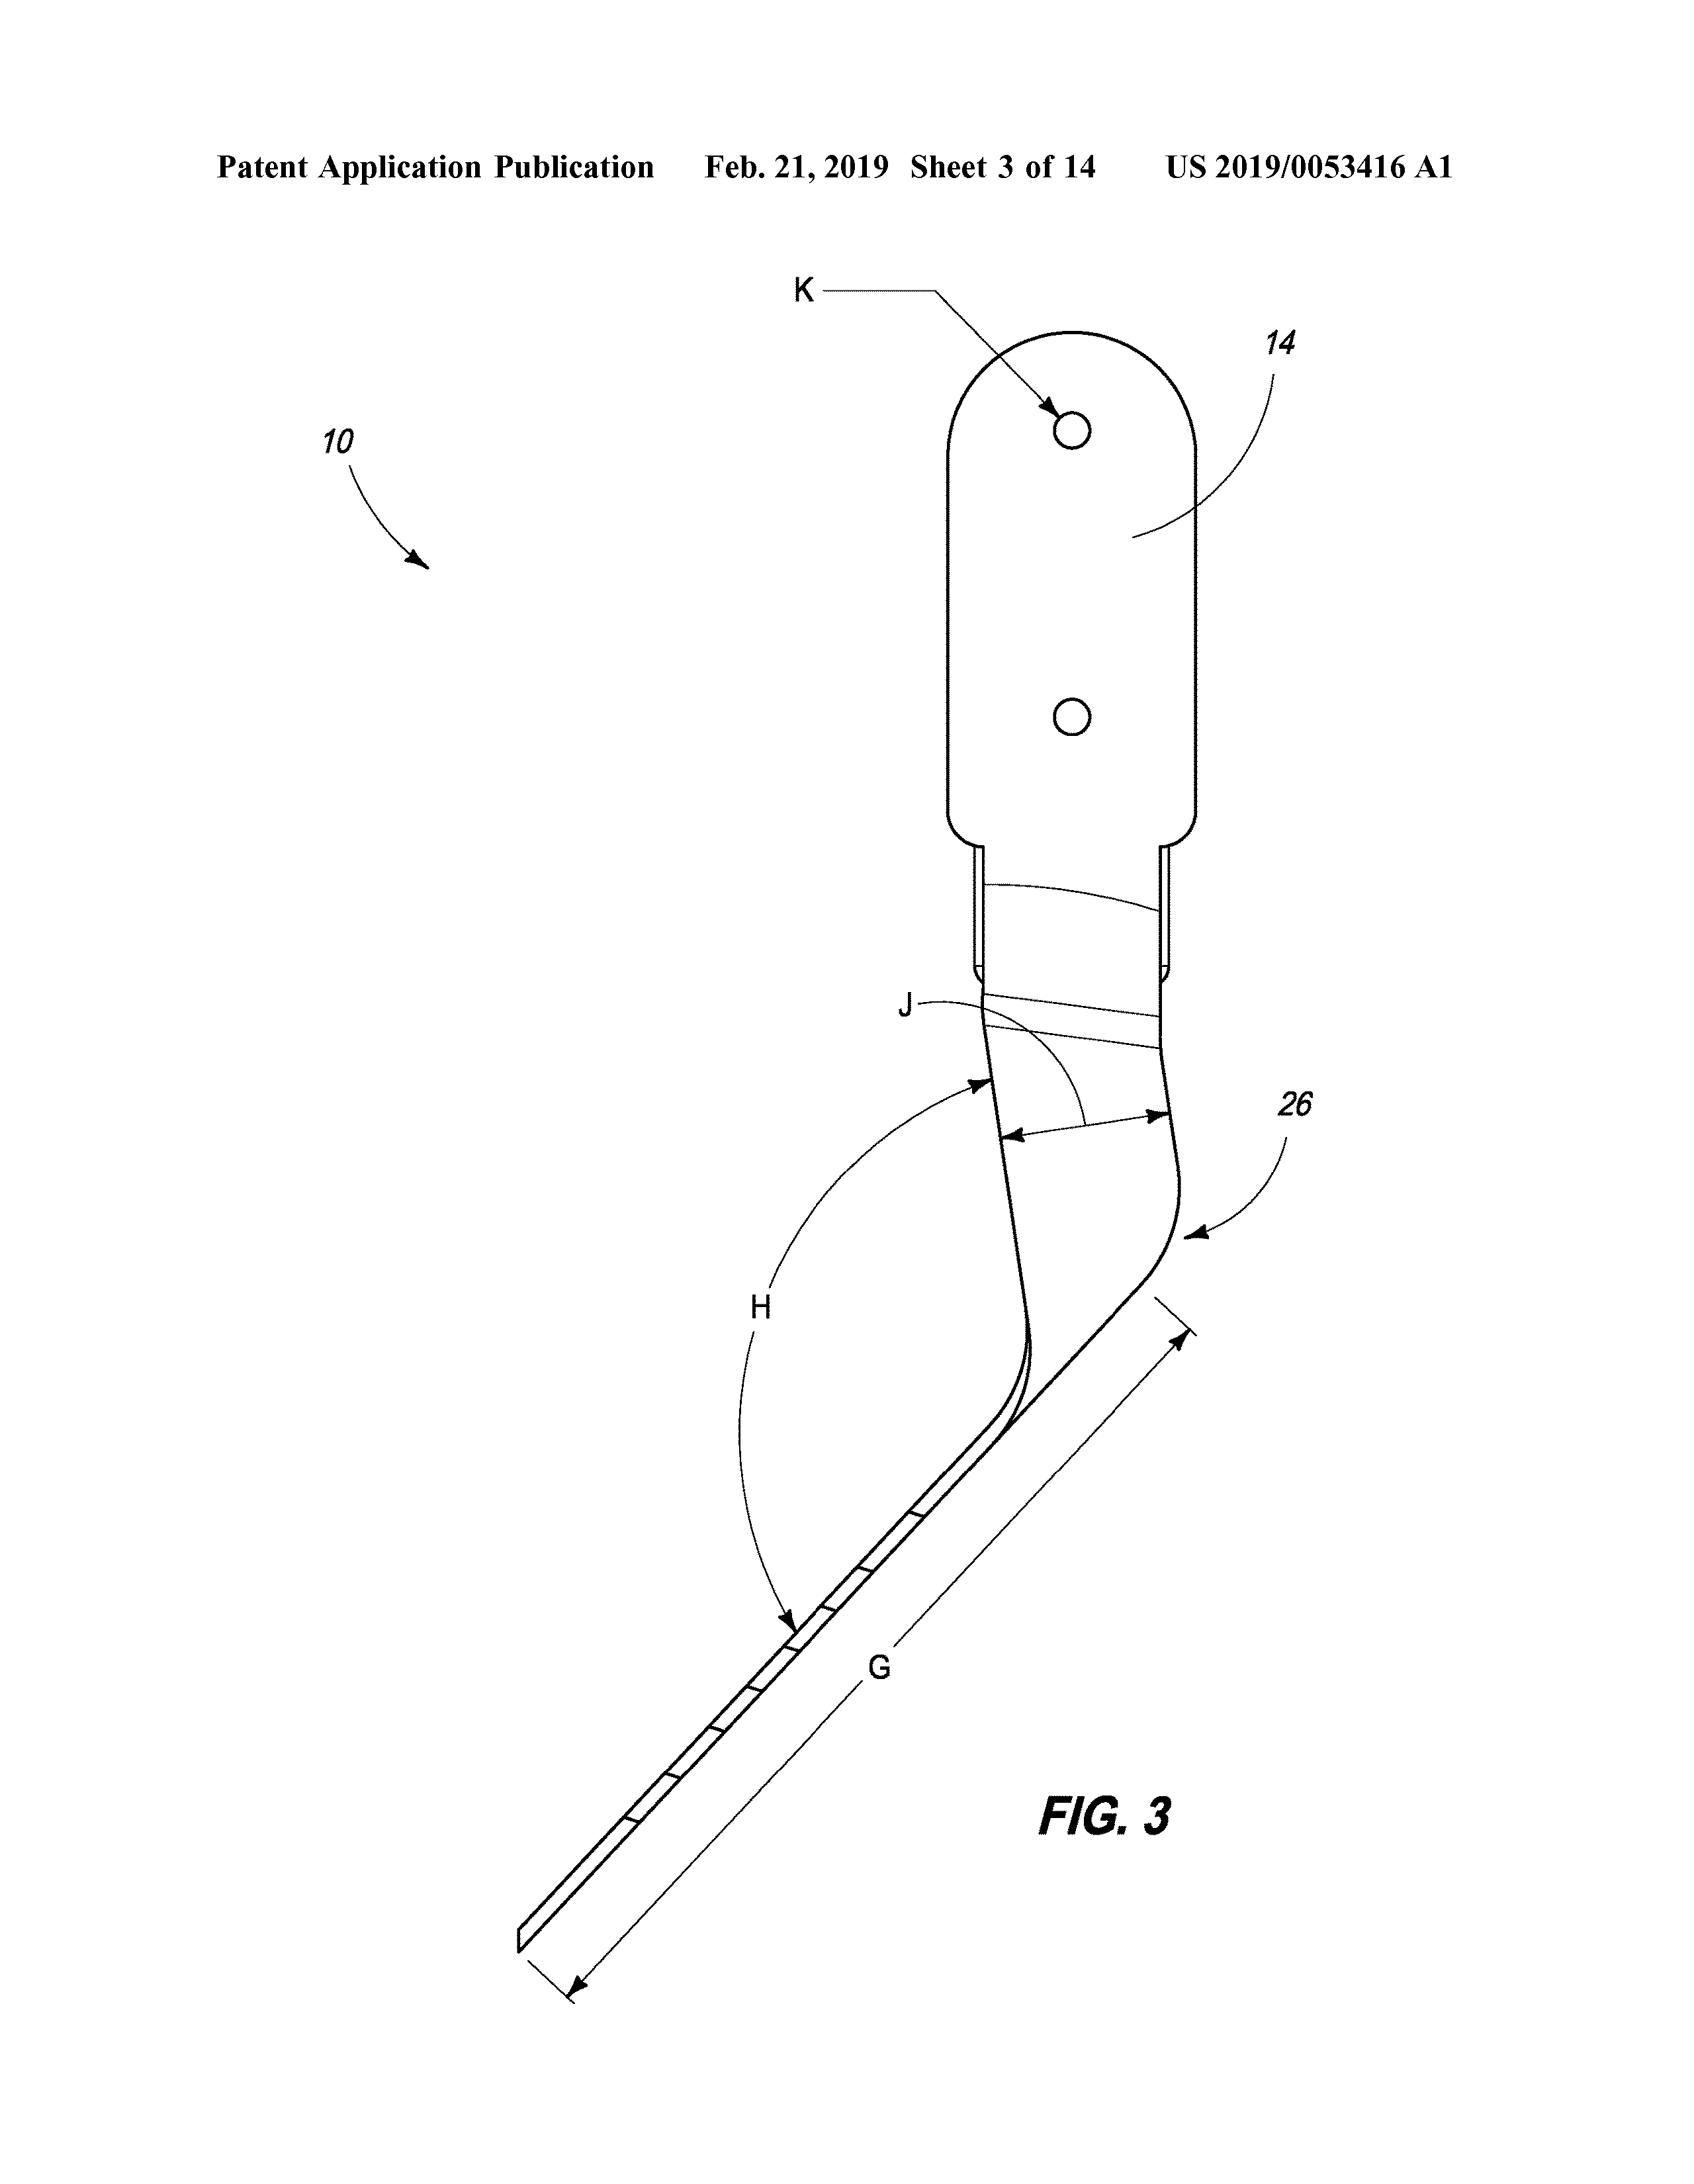10: (308, 411, 370, 472)
14: (1249, 316, 1313, 374)
26: (1265, 1074, 1327, 1135)
G: (849, 1634, 911, 1695)
H: (728, 1278, 792, 1337)
J: (875, 975, 937, 1035)
K: (776, 259, 838, 319)
